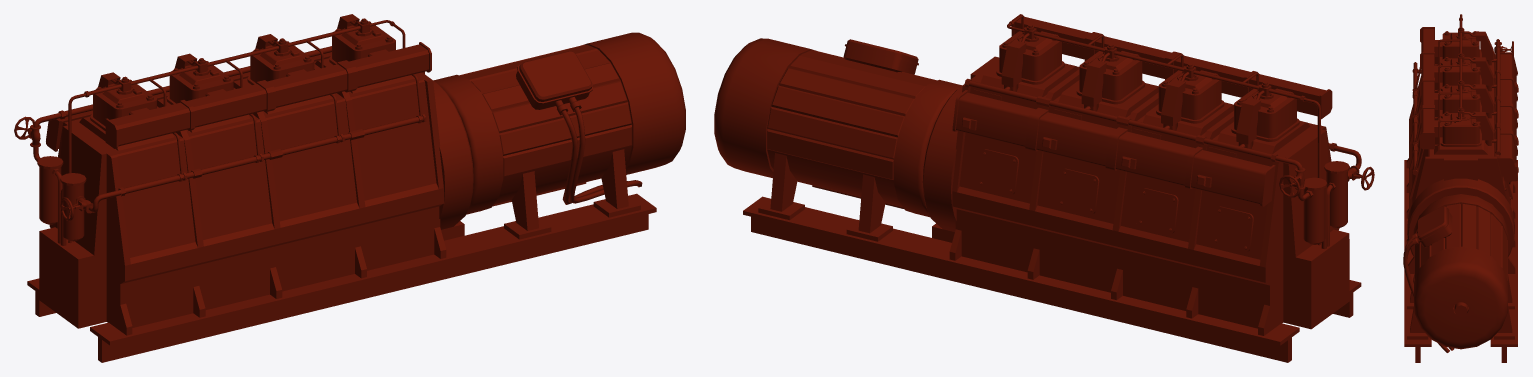
File: generator.FBX
The picture shows the model from 3 angles, left to right: view 1: azimuth 30°, elevation 25°; view 2: azimuth 150°, elevation 25°; view 3: azimuth 270°, elevation 25°; orthographic projection. The views are drawn at different scales.
Parts seen in each view (by area): view 1: generator; view 2: generator; view 3: generator.
Boxes of the visible parts, left/top/right/bottom form: generator: left=14, top=14, right=685, bottom=362; generator: left=714, top=14, right=1374, bottom=362; generator: left=1403, top=14, right=1518, bottom=362.
Bounding box in the file's own units: 259 × 98.63 × 60.62.
